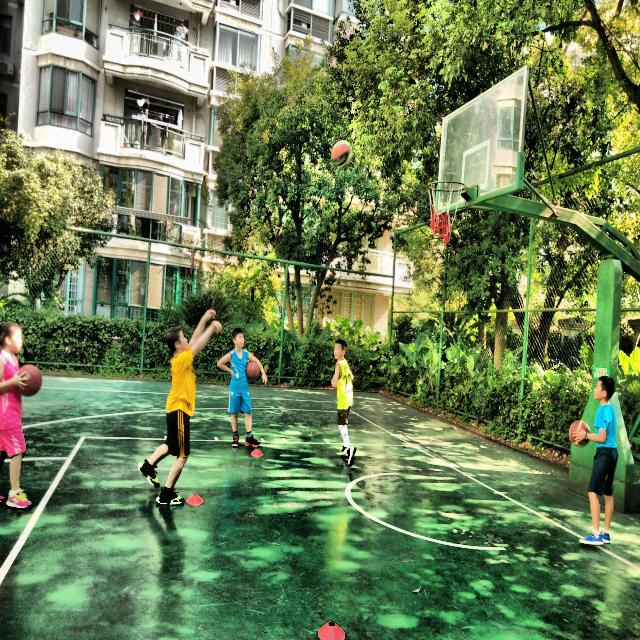board: (328, 136, 356, 173)
rim: (426, 180, 465, 238)
